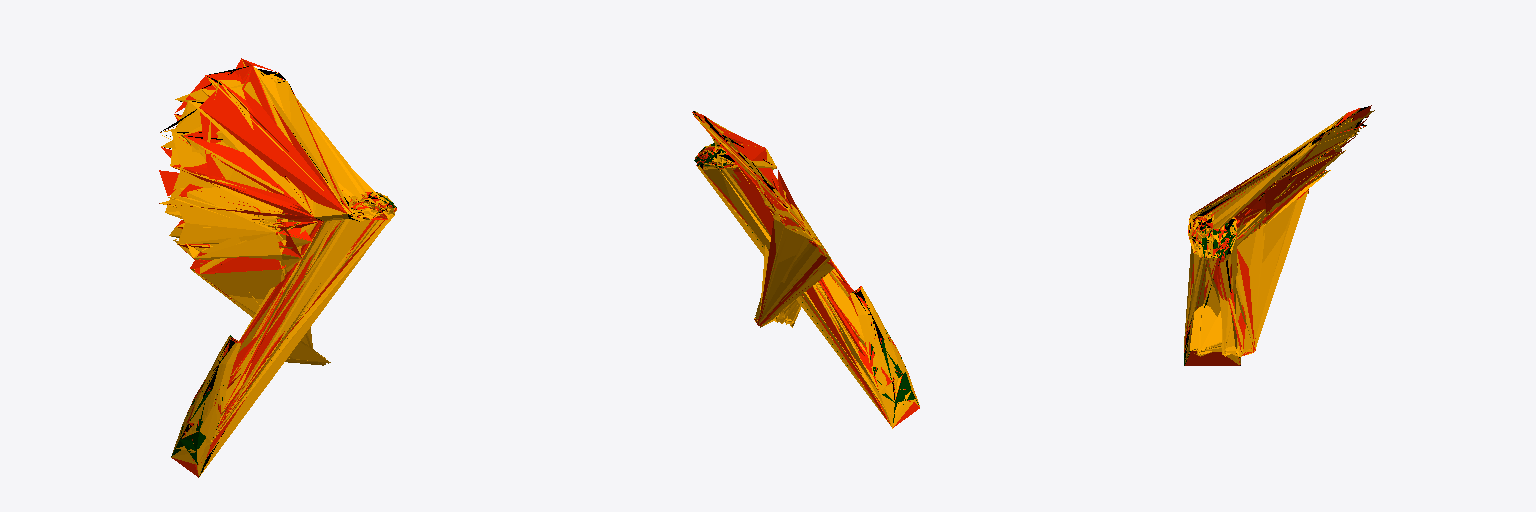
The model's file is Birds.obj.
The picture shows the model from 3 angles: view 1: azimuth 30°, elevation 25°; view 2: azimuth 150°, elevation 25°; view 3: azimuth 270°, elevation 25°; orthographic projection.
Parts seen in each view (by area): view 1: dyellow0, leg0, lwing0, feather10, rwing0, feather20, claws0, red0; view 2: dyellow0, leg0, rwing0, feather10, lwing0, feather20, red0; view 3: dyellow0, leg0, lwing0, rwing0, feather10, claws0.
Boxes of the visible parts, x1,y1,x2,y2 form: dyellow0: [160, 60, 394, 475]; leg0: [159, 59, 396, 477]; lwing0: [176, 68, 396, 450]; feather10: [182, 58, 396, 464]; rwing0: [172, 194, 395, 463]; feather20: [172, 336, 240, 475]; claws0: [161, 66, 389, 474]; red0: [171, 192, 396, 476]; dyellow0: [695, 111, 919, 425]; leg0: [694, 115, 919, 427]; rwing0: [700, 146, 914, 428]; feather10: [692, 112, 915, 423]; lwing0: [693, 113, 911, 421]; feather20: [850, 287, 919, 427]; red0: [694, 143, 918, 422]; dyellow0: [1184, 109, 1365, 363]; leg0: [1184, 105, 1371, 365]; lwing0: [1184, 110, 1374, 359]; rwing0: [1184, 212, 1240, 364]; feather10: [1187, 108, 1360, 361]; claws0: [1185, 106, 1368, 365].
Bounding box in the file's own units: 5.81 × 8.54 × 4.59.